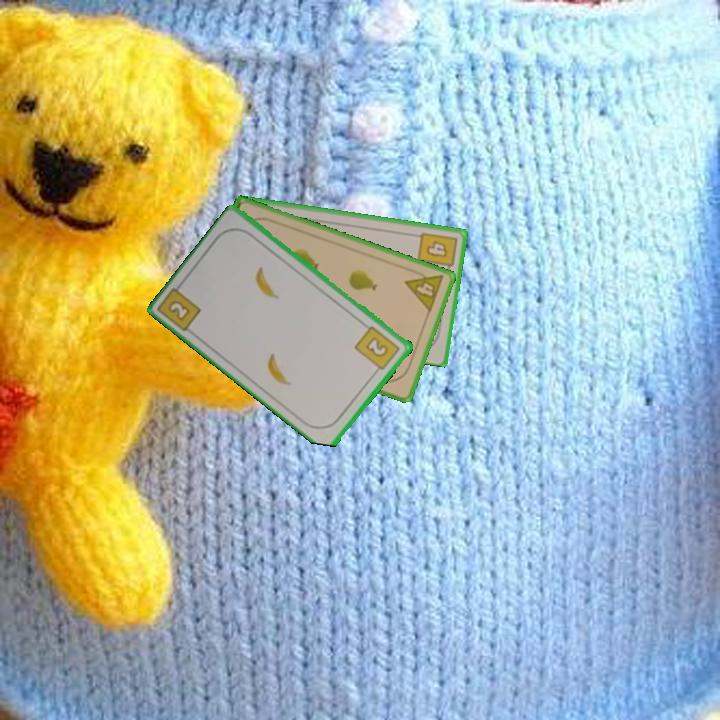2b: (351, 322, 403, 377), (165, 296, 193, 323)
4b: (414, 229, 460, 276)
4p: (401, 265, 447, 315)
